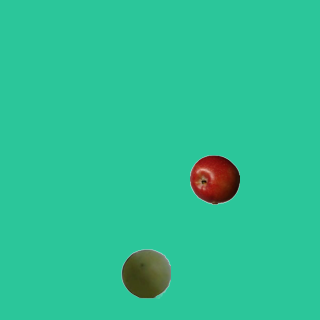Apple Braeburn: (189, 154, 239, 204)
Grape White 4: (120, 248, 170, 298)
